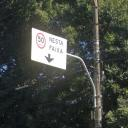speed_limit_50: (36, 32, 46, 50)
